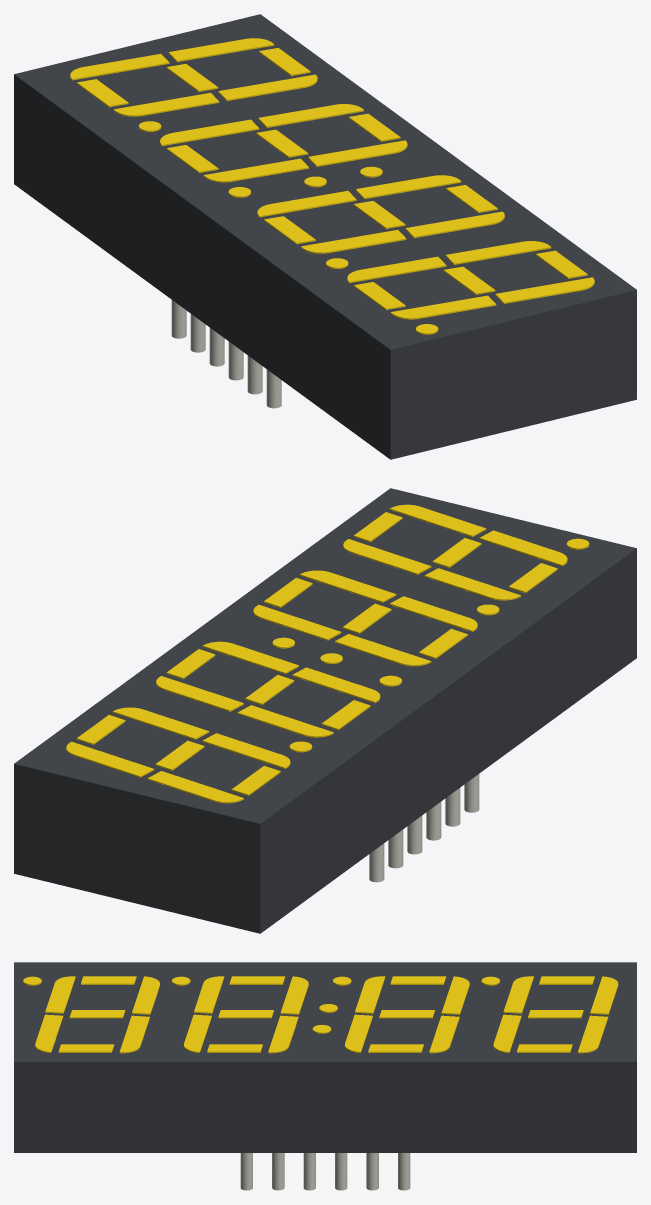
File: kc-cc56-12ywa.glb
3 views of the same model, one above another, from view 1: azimuth 30°, elevation 25°; view 2: azimuth 150°, elevation 25°; view 3: azimuth 270°, elevation 25° (orthographic). The views are drawn at different scales.
Visible parts, largest first — view 1: 0.08333333333333333_0.08333333333333333_0.08333333333333333_, 0.9166666666666666_0.6666666666666666_0_0, 0.6666666666666666_0.6666666666666666_0.5833333333333334_0.8; view 2: 0.08333333333333333_0.08333333333333333_0.08333333333333333_, 0.9166666666666666_0.6666666666666666_0_0, 0.6666666666666666_0.6666666666666666_0.5833333333333334_0.8; view 3: 0.08333333333333333_0.08333333333333333_0.08333333333333333_, 0.9166666666666666_0.6666666666666666_0_0, 0.6666666666666666_0.6666666666666666_0.5833333333333334_0.8.
Boxes of the visible parts, x1,y1,x2,y2 form: 0.08333333333333333_0.08333333333333333_0.08333333333333333_: (14,14,636,459); 0.9166666666666666_0.6666666666666666_0_0: (70,38,594,334); 0.6666666666666666_0.6666666666666666_0.5833333333333334_0.8: (171,300,281,408); 0.08333333333333333_0.08333333333333333_0.08333333333333333_: (14,488,636,933); 0.9166666666666666_0.6666666666666666_0_0: (66,504,589,803); 0.6666666666666666_0.6666666666666666_0.5833333333333334_0.8: (369,774,479,882); 0.08333333333333333_0.08333333333333333_0.08333333333333333_: (14,962,636,1152); 0.9166666666666666_0.6666666666666666_0_0: (23,976,618,1053); 0.6666666666666666_0.6666666666666666_0.5833333333333334_0.8: (240,1153,410,1190).
Bounding box in the file's own units: 1.9 × 1.22 × 5.03.
